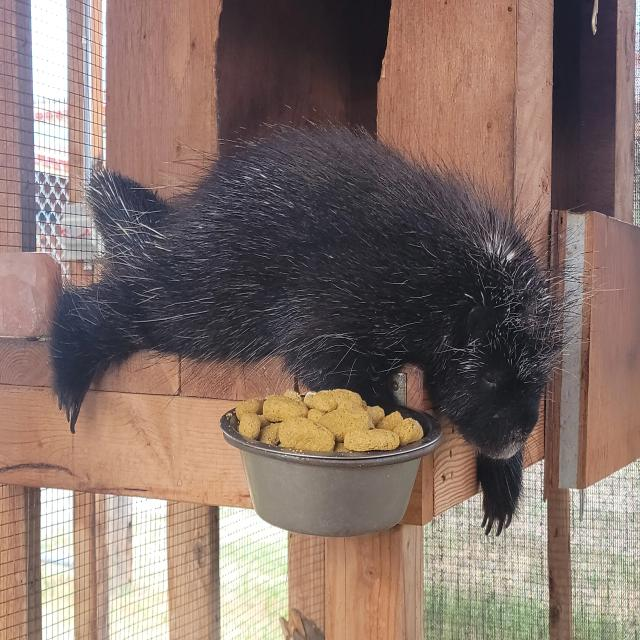Porcupine: (52, 119, 555, 464)
